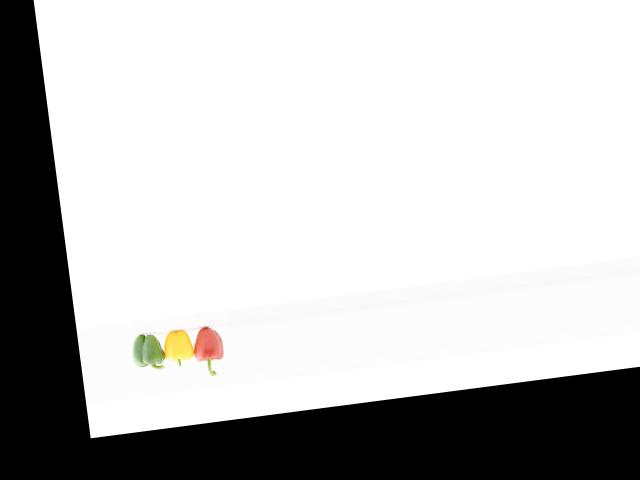bell_pepper: (187, 319, 235, 381)
